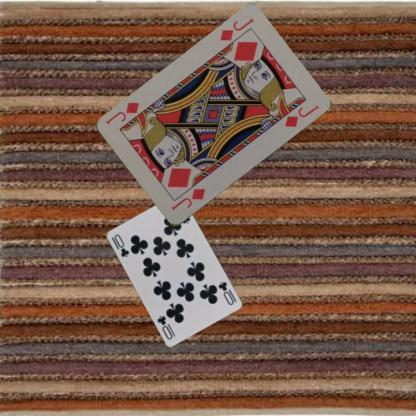10c: (111, 232, 130, 258), (216, 279, 234, 306)
Jd: (168, 185, 206, 212), (217, 16, 254, 42)
